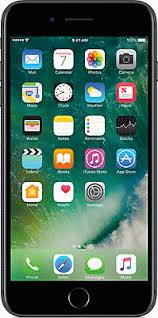iphone: (1, 1, 158, 315)
iphone7: (1, 1, 158, 315)
